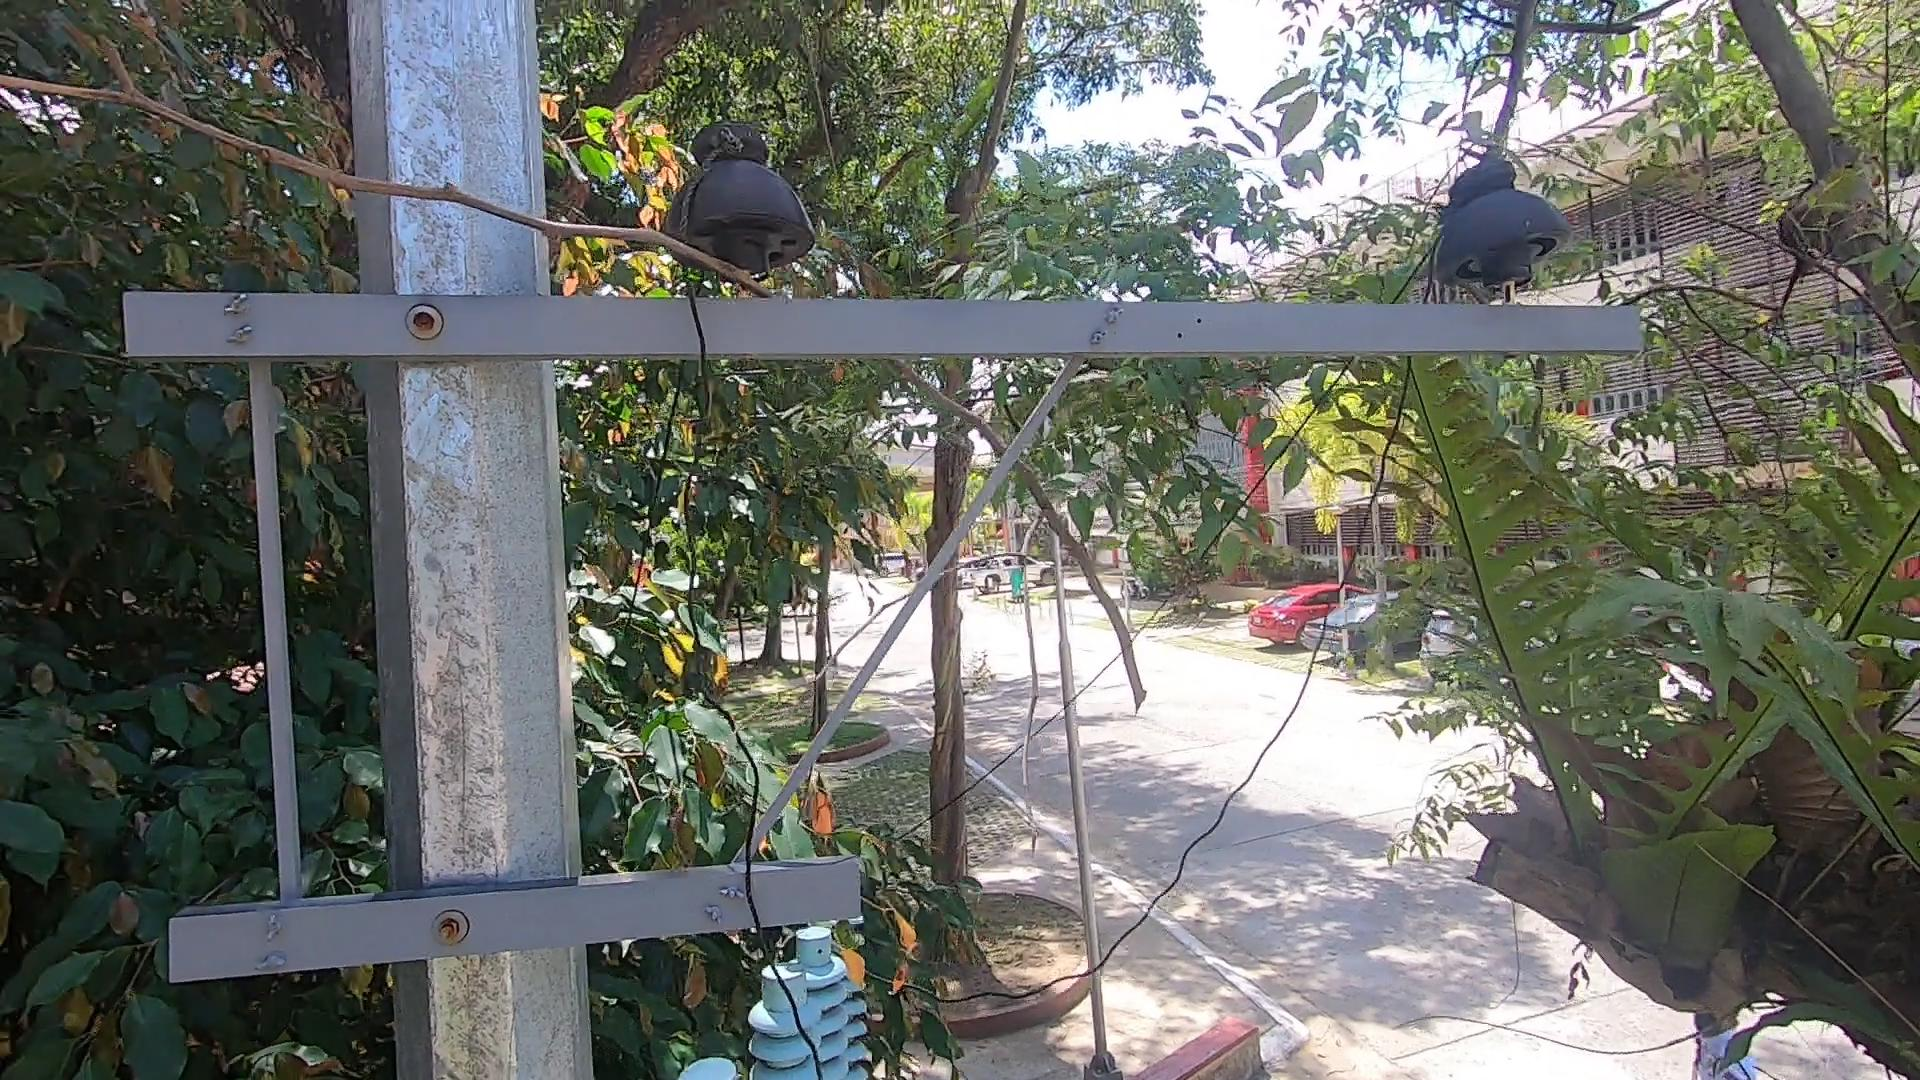branch with leaves: (760, 807, 841, 857)
tree branch: (1, 47, 1164, 691)
